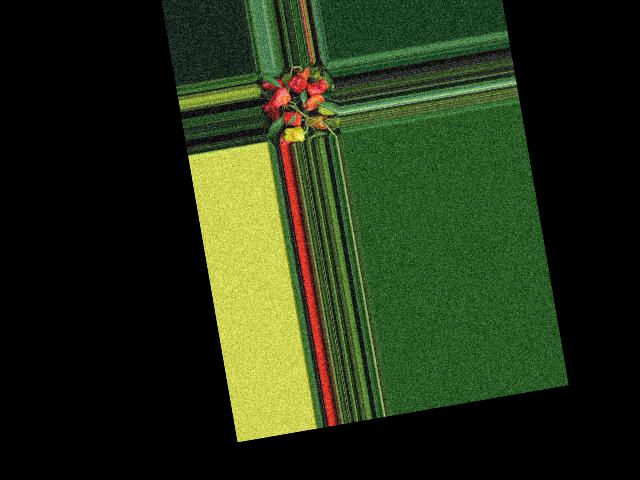bell_pepper: (298, 65, 311, 80)
